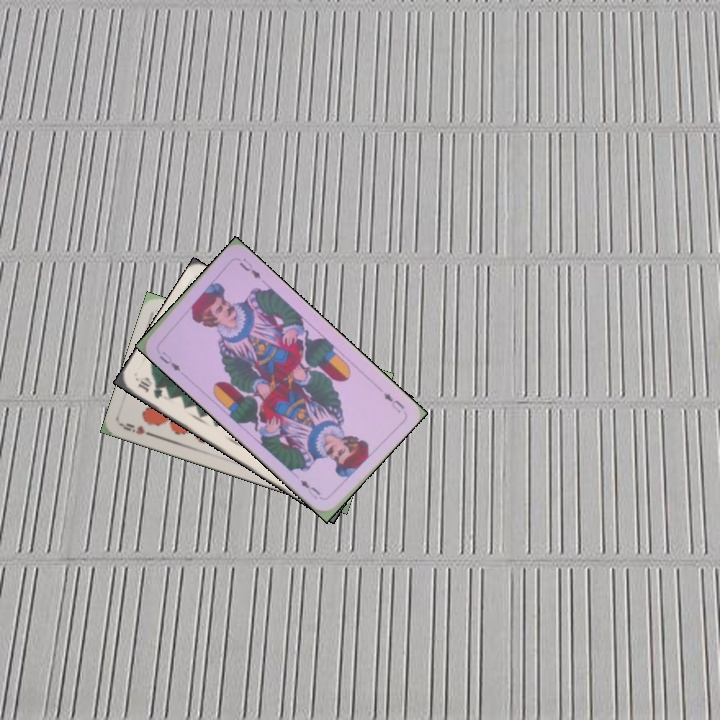EU: (155, 347, 183, 374), (380, 389, 407, 416)
G10: (134, 375, 165, 402)
H9: (118, 419, 157, 440)
